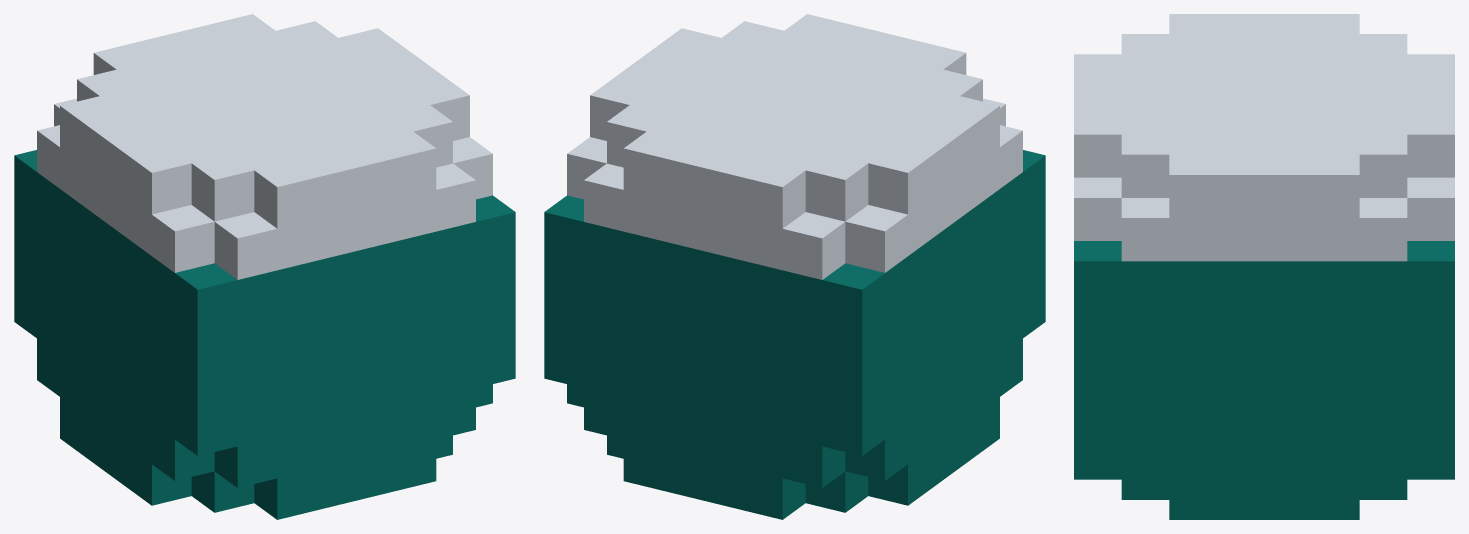
Rendered from green-leaves-with-snow-block.glb.
The picture shows the model from 3 angles, left to right: view 1: azimuth 30°, elevation 25°; view 2: azimuth 150°, elevation 25°; view 3: azimuth 270°, elevation 25°; orthographic projection. The views are drawn at different scales.
Visible parts, largest first — view 1: generated(Clone); view 2: generated(Clone); view 3: generated(Clone).
Boxes of the visible parts, x1,y1,x2,y2 form: generated(Clone): [14, 14, 515, 519]; generated(Clone): [544, 14, 1045, 519]; generated(Clone): [1074, 14, 1454, 519].
Size of the model in its own units: 8 by 8 by 8.
Materials: 1 (1 with a texture image).
